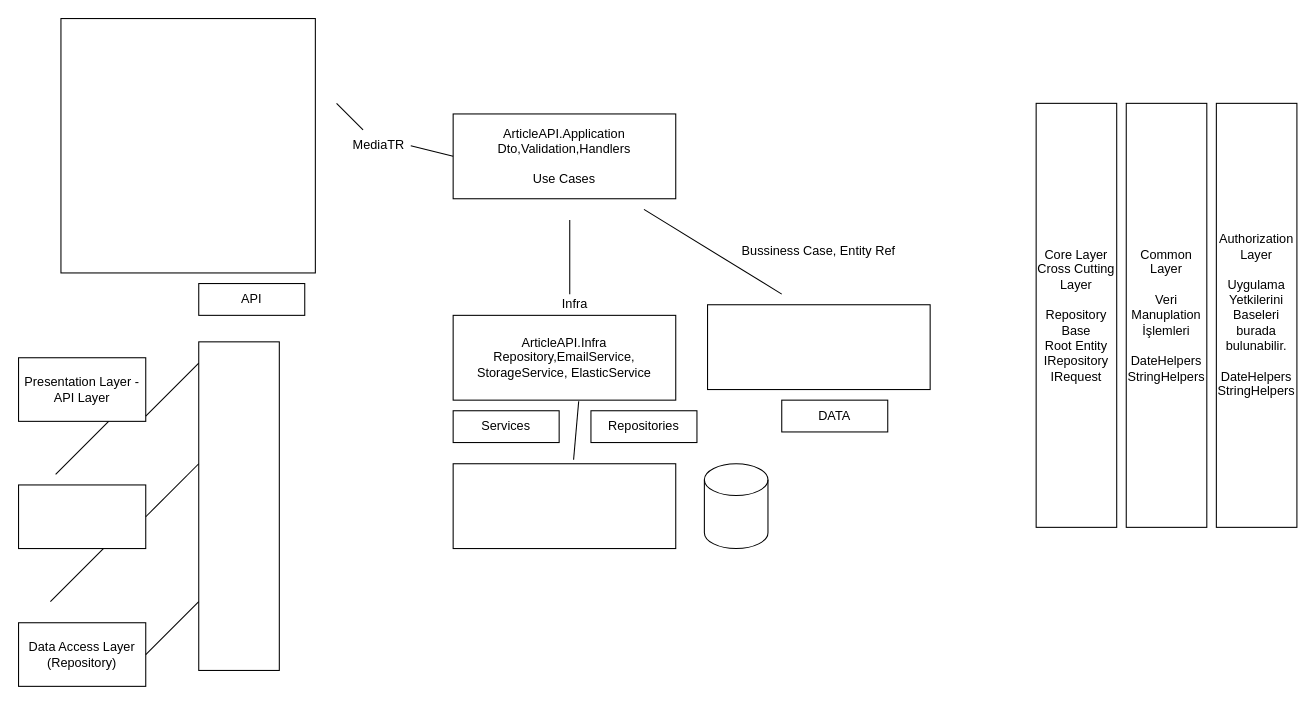
This 1315x705 diagram has some shape labels left out. Here are the shapes that lost their labels. From the top down, the centre of each, then its label:
At point 187,145: "ArticleAPI Presentation Layer MVC, WEB API, Gprc, WCF, Console".
At point 818,347: "ArticleAPI.Domain Entities Domain Services Domain Exception Bussiness Case".
At point 81,516: "Bussiness Logic Layer (Services)".
At point 238,505: "Core Layer".
At point 564,506: "ArticleAPI.Persistance Configs, Migrations, Context, DbConection, DbCommand".
At point 735,506: "DB".
